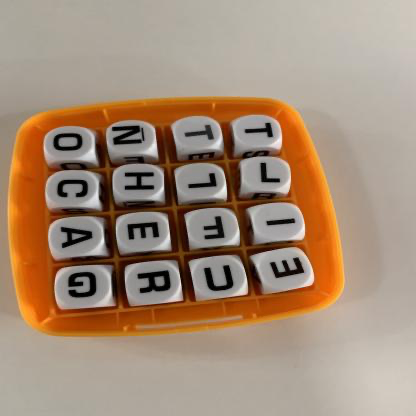a: (51, 216, 105, 256)
c: (46, 171, 101, 208)
e: (258, 250, 313, 291), (118, 213, 170, 253)
f: (189, 210, 240, 247)
g: (56, 267, 111, 309)
h: (113, 165, 166, 200)
i: (253, 203, 306, 241)
l: (177, 163, 228, 198), (243, 158, 292, 192)
n: (108, 121, 158, 154)
o: (45, 127, 97, 160)
r: (126, 262, 181, 305)
t: (176, 117, 223, 150), (236, 115, 283, 148)
u: (195, 258, 248, 299)
